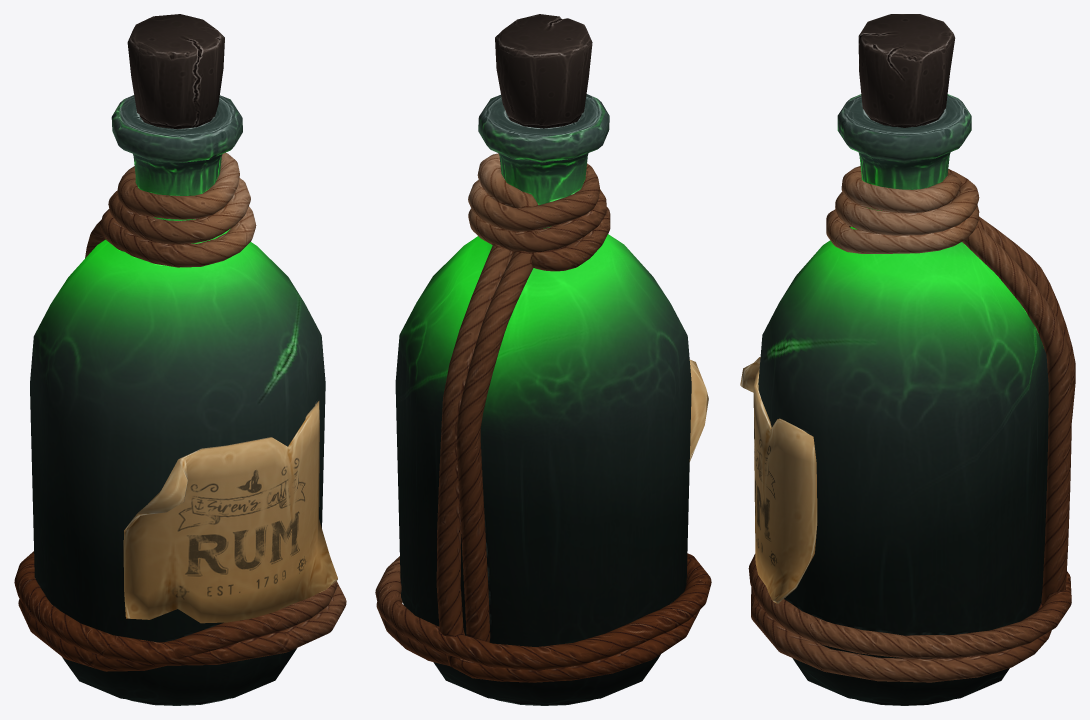
Rendered from pirate_bottle.glb.
3 renders of one model, left to right at view 1: azimuth 30°, elevation 25°; view 2: azimuth 150°, elevation 25°; view 3: azimuth 270°, elevation 25°, orthographic.
Parts seen in each view (by area): view 1: Bottle_low_One_shader_together_edit; view 2: Bottle_low_One_shader_together_edit; view 3: Bottle_low_One_shader_together_edit.
Boxes of the visible parts, x1=… form: Bottle_low_One_shader_together_edit: x1=14, y1=14, x2=346, y2=705; Bottle_low_One_shader_together_edit: x1=375, y1=14, x2=711, y2=705; Bottle_low_One_shader_together_edit: x1=740, y1=14, x2=1075, y2=705.
Size of the model in its own units: 1.06 by 2.25 by 1.08.
1 material, 1 textured.
